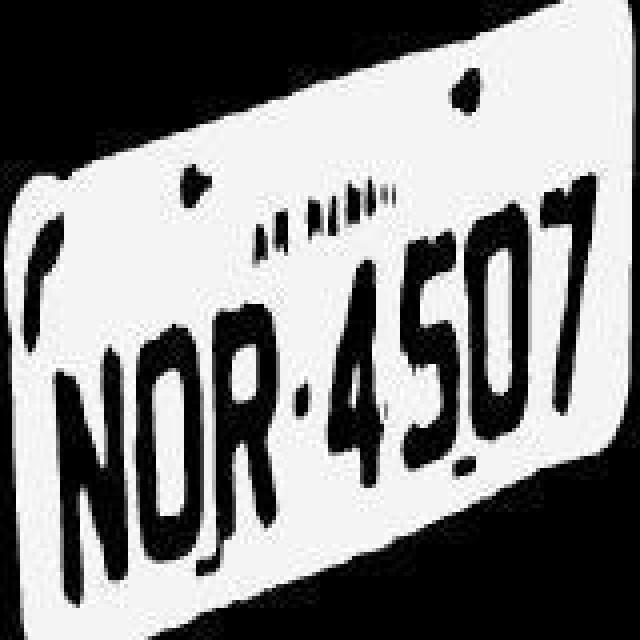4: (314, 248, 390, 504)
5: (388, 218, 460, 486)
7: (536, 164, 600, 428)
N: (46, 340, 130, 604)
O: (458, 182, 534, 458), (130, 288, 206, 560)
R: (204, 288, 292, 544)
